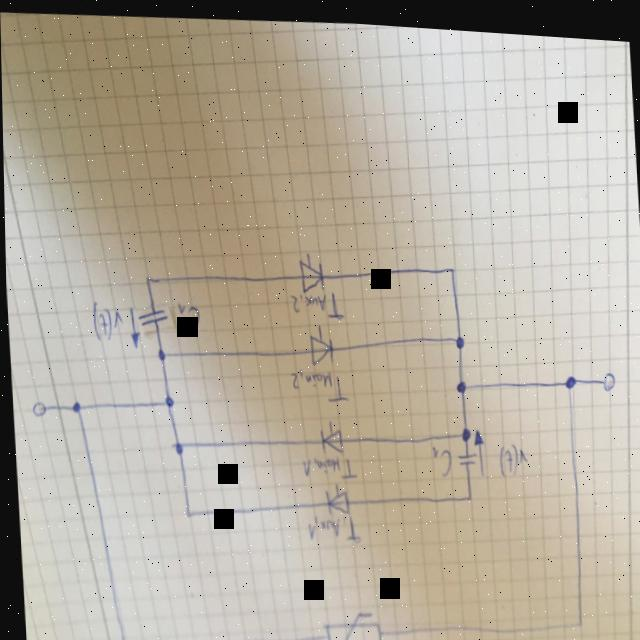capacitor: (134, 302, 168, 327), (454, 443, 475, 463)
junction: (561, 365, 576, 383), (456, 419, 470, 438), (168, 438, 183, 455), (67, 398, 81, 415), (160, 391, 173, 408), (153, 345, 166, 361), (453, 372, 466, 388), (452, 328, 464, 344), (140, 270, 152, 284), (180, 507, 191, 520), (571, 609, 581, 622), (447, 258, 455, 268), (464, 486, 471, 497), (116, 640, 128, 640)
terminal: (599, 361, 614, 384), (28, 399, 45, 418)
text: (287, 361, 347, 402), (284, 285, 344, 320), (301, 507, 360, 540), (298, 447, 357, 478), (87, 295, 123, 343), (494, 435, 529, 472), (172, 297, 201, 333), (426, 437, 453, 473)
thyristor: (306, 328, 334, 363), (296, 253, 323, 289), (321, 481, 348, 511), (317, 421, 343, 451)
